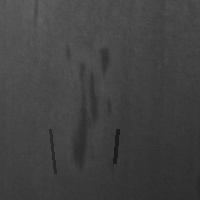inclusion: (68, 43, 117, 173), (96, 40, 114, 80), (48, 127, 57, 175), (112, 127, 119, 165), (31, 1, 42, 25)
